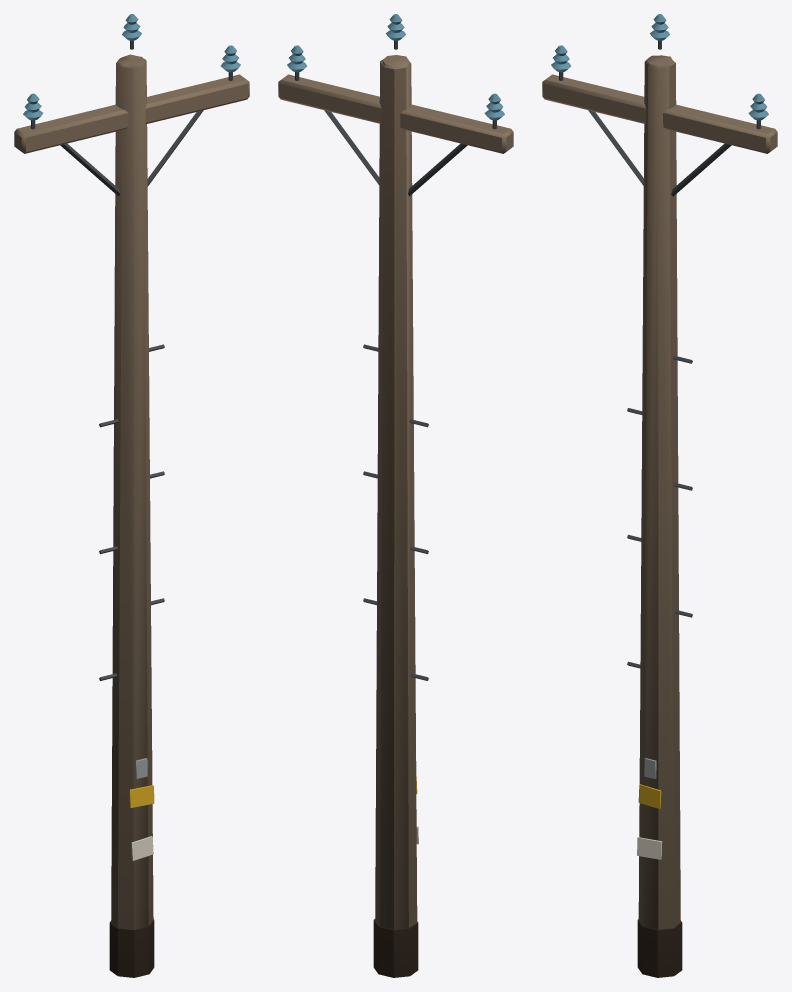
Rendered from 10_poteau_electrique.fbx.
3 views of the same model, side by side, from view 1: azimuth 30°, elevation 25°; view 2: azimuth 150°, elevation 25°; view 3: azimuth 330°, elevation 25° (orthographic).
Parts seen in each view (by area): view 1: Poteau; view 2: Poteau; view 3: Poteau.
Part boxes in pixels (x1,y1,x2,y2): Poteau: [14, 14, 249, 977]; Poteau: [278, 14, 513, 977]; Poteau: [542, 14, 777, 977].
Size of the model in its own units: 1.68 by 6.72 by 0.28.
Materials: 1 (1 with a texture image).
